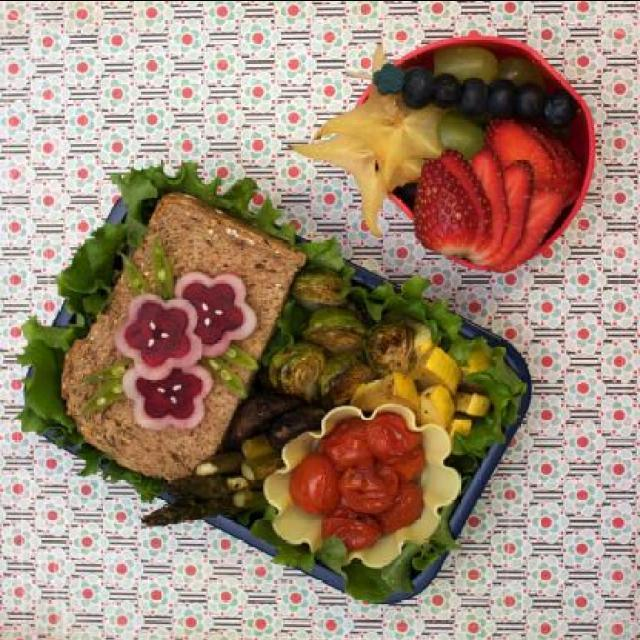Salad: (3, 158, 534, 602), (277, 34, 588, 274)
